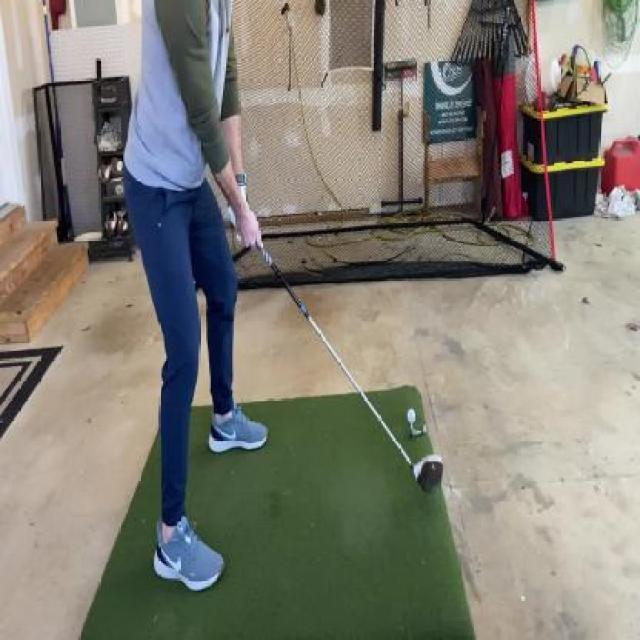club head: (404, 453, 444, 495)
